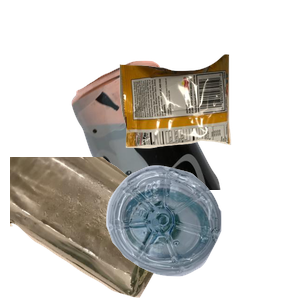glass: (10, 157, 190, 300)
metal: (69, 58, 300, 238)
plastic: (104, 163, 300, 300)
trash: (117, 52, 300, 193)
